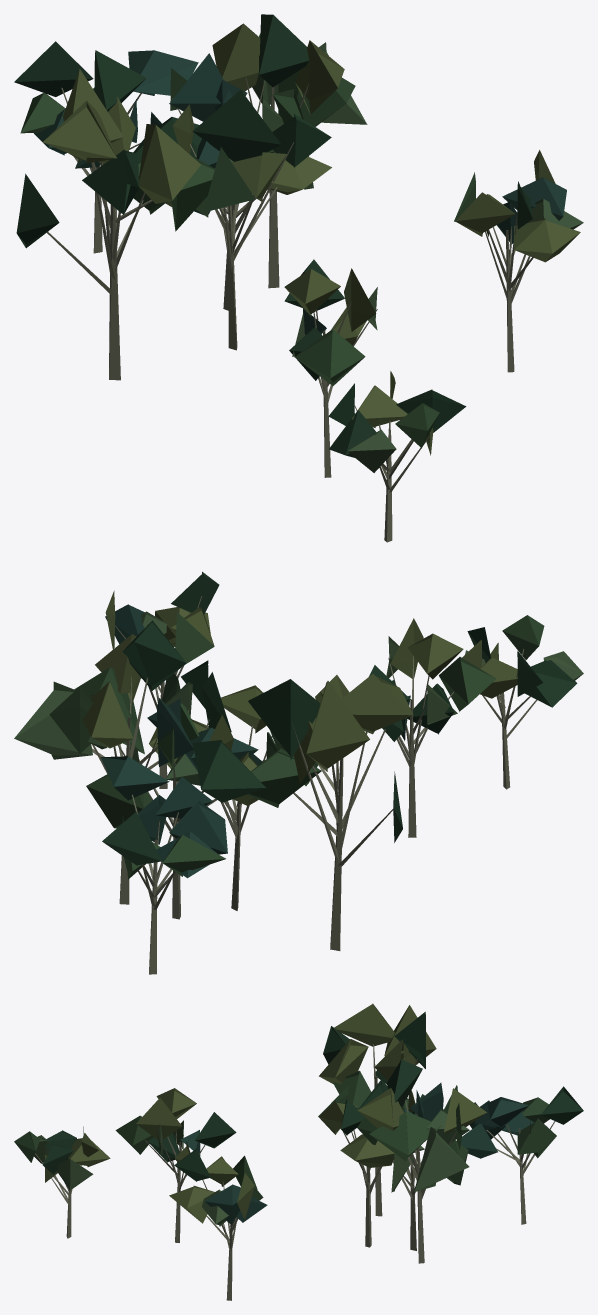
The model's file is forest_16_22.dae.
The picture shows the model from 3 angles, top to bottom: view 1: azimuth 30°, elevation 25°; view 2: azimuth 150°, elevation 25°; view 3: azimuth 270°, elevation 25°; orthographic projection. The views are drawn at different scales.
Visible parts, largest first — view 1: Node; view 2: Node; view 3: Node.
Part boxes in pixels (bbox=[...]): Node: bbox=[14, 14, 583, 542]; Node: bbox=[14, 571, 583, 974]; Node: bbox=[14, 1003, 583, 1300].
Bounding box in the file's own units: 5.03 × 8.26 × 3.53.
